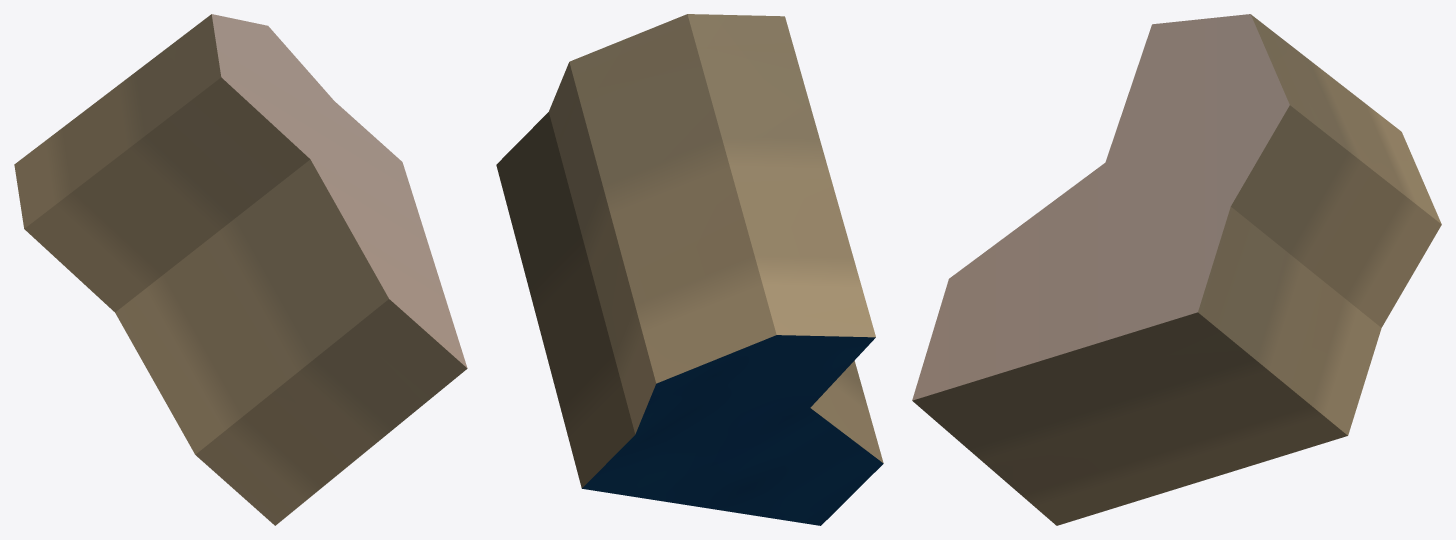
File: 062c_Jordan.glb
3 views of the same model, side by side, from view 1: azimuth 30°, elevation 25°; view 2: azimuth 150°, elevation 25°; view 3: azimuth 270°, elevation 25° (orthographic). The views are drawn at different scales.
Parts seen in each view (by area): view 1: part_0; view 2: part_0; view 3: part_0.
Boxes of the visible parts, x1,y1,x2,y2 form: part_0: [14, 14, 467, 525]; part_0: [496, 14, 883, 525]; part_0: [912, 14, 1441, 525].
Size of the model in its own units: 0.2847 by 0.3637 by 0.3339.
Materials: 1 (1 with a texture image).
